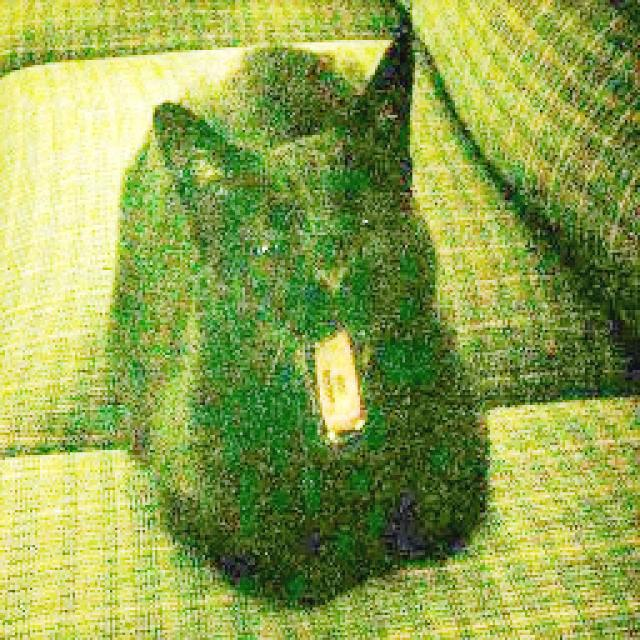cat: (89, 25, 488, 600)
